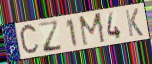1: (65, 18, 79, 47)
4: (106, 11, 122, 40)
C: (18, 22, 41, 58)
K: (124, 7, 144, 38)
M: (77, 11, 107, 48)
Z: (37, 19, 64, 54)
